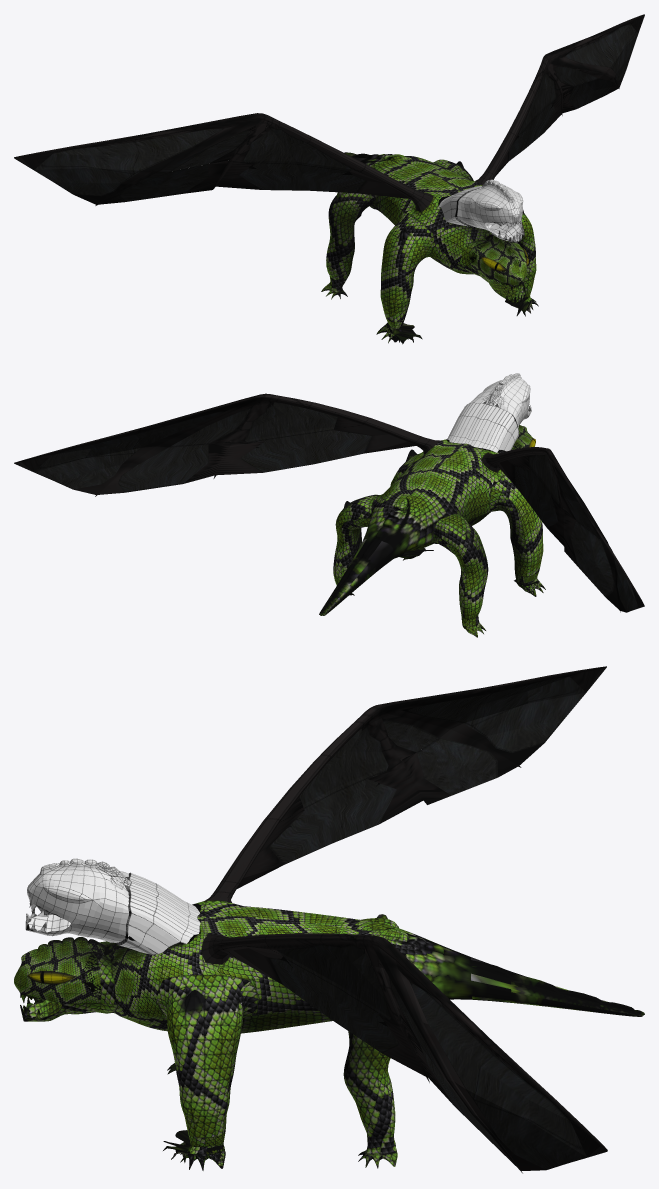
File: monster_000035.obj
The picture shows the model from 3 angles, top to bottom: view 1: azimuth 30°, elevation 25°; view 2: azimuth 150°, elevation 25°; view 3: azimuth 270°, elevation 25°; orthographic projection. The views are drawn at different scales.
Parts seen in each view (by area): view 1: body_Cube, secondHead_Cube.002; view 2: body_Cube, secondHead_Cube.002; view 3: body_Cube, secondHead_Cube.002.
Part boxes in pixels (x1,y1,x2,y2): body_Cube: (14,14,644,344); secondHead_Cube.002: (439,179,524,242); body_Cube: (14,393,644,637); secondHead_Cube.002: (447,373,531,452); body_Cube: (14,666,644,1173); secondHead_Cube.002: (25,858,200,954).
Size of the model in its own units: 9.66 by 2.94 by 5.51.
